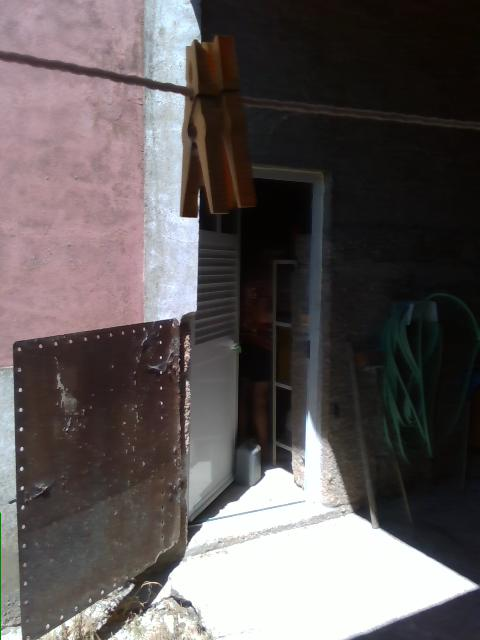semi_door: (177, 161, 322, 542)
